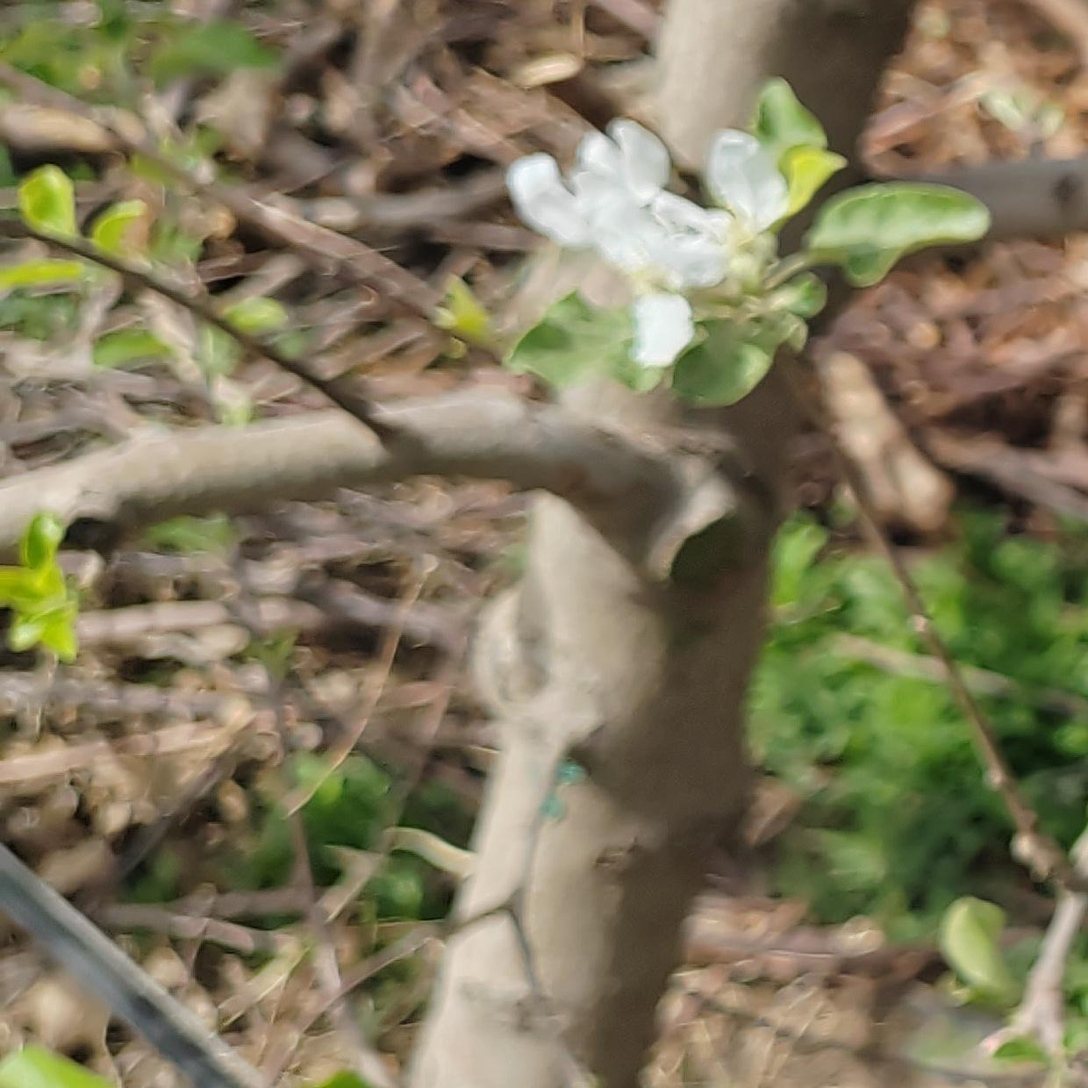apple_flower: (503, 117, 728, 288), (704, 128, 791, 228)
